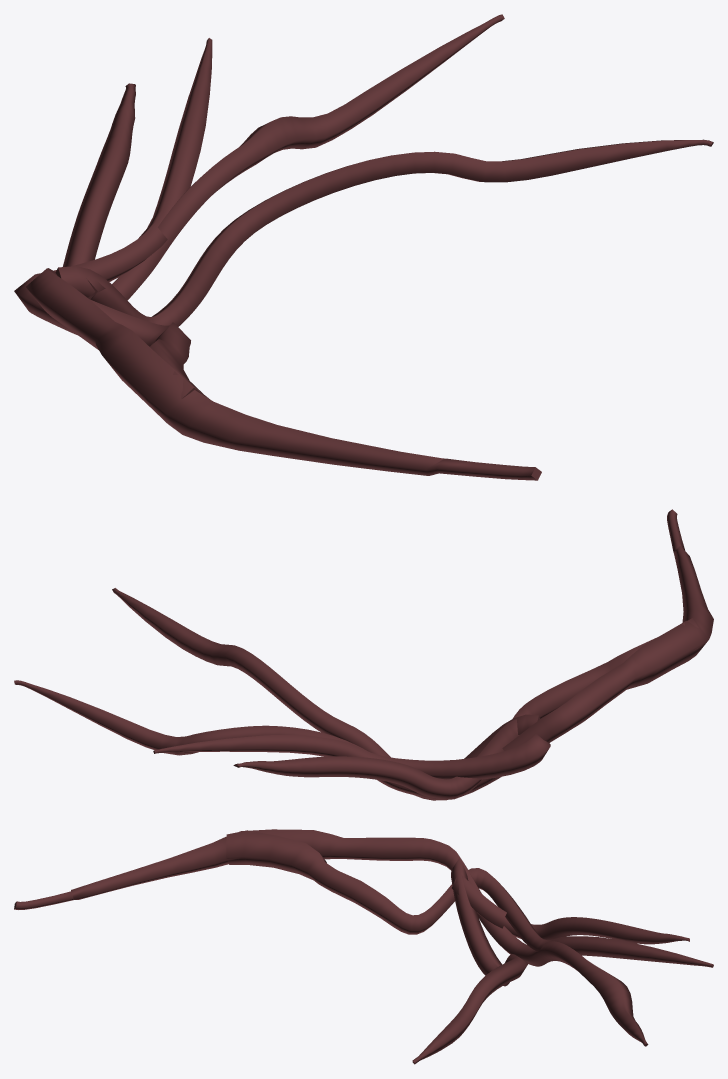
3 views of the same model, one above another, from view 1: azimuth 30°, elevation 25°; view 2: azimuth 150°, elevation 25°; view 3: azimuth 270°, elevation 25° (orthographic). The views are drawn at different scales.
Parts seen in each view (by area): view 1: 貝茲曲線.005; view 2: 貝茲曲線.005; view 3: 貝茲曲線.005.
Part boxes in pixels (x1,y1,x2,y2): 貝茲曲線.005: (14, 14, 713, 480); 貝茲曲線.005: (14, 509, 713, 800); 貝茲曲線.005: (14, 829, 713, 1064).
Bounding box in the file's own units: 946 × 197 × 1242.
1 material, 1 textured.
